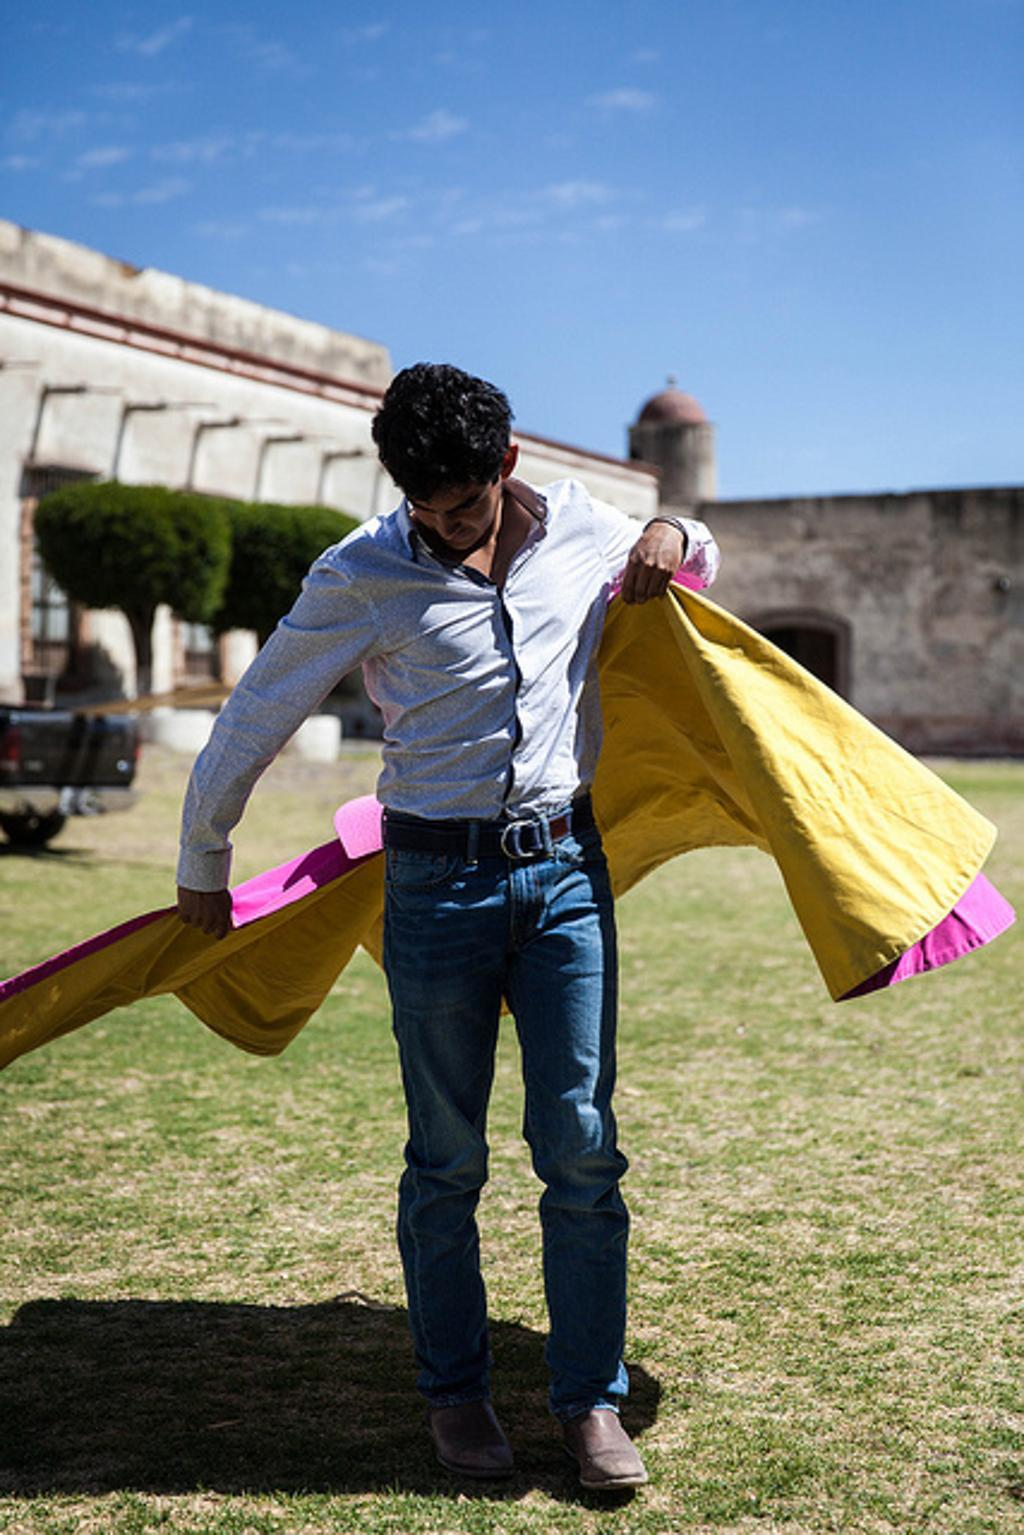face: (405, 471, 498, 558)
